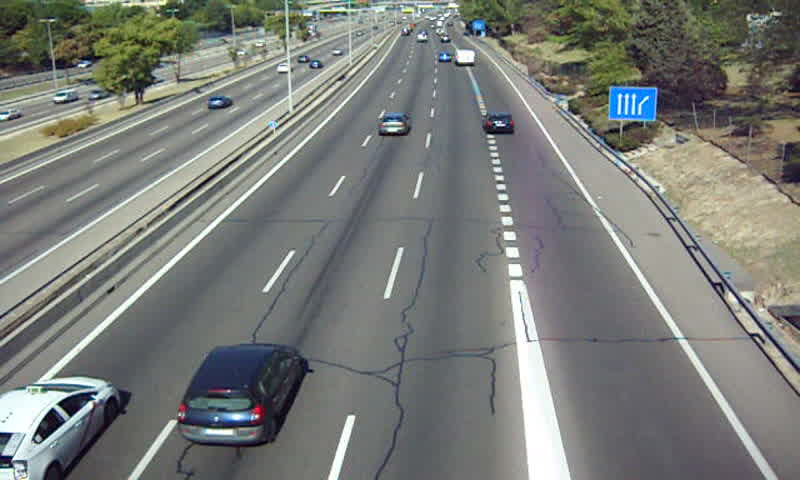car: (176, 344, 306, 448), (1, 376, 118, 480), (378, 110, 410, 135), (481, 112, 516, 134)
van: (453, 50, 476, 66)
